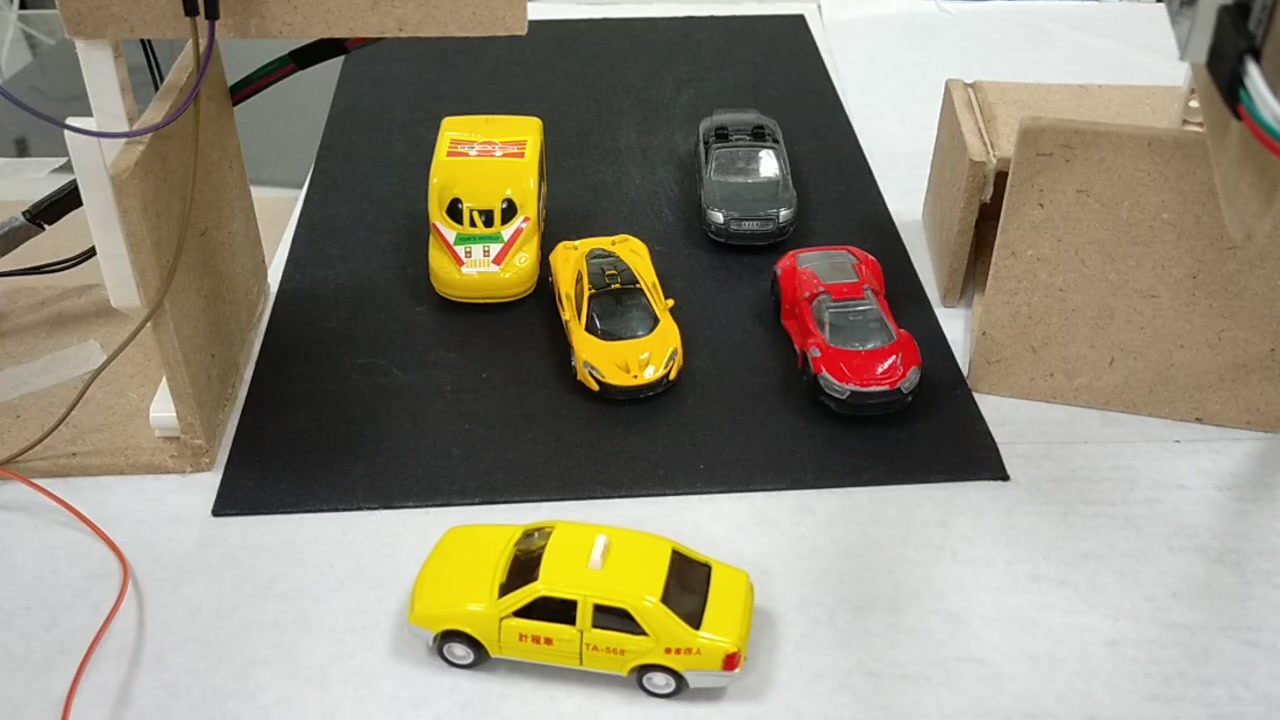car: (412, 519, 753, 699), (774, 238, 933, 413), (548, 237, 687, 406), (694, 108, 801, 250)
